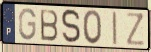B: (39, 8, 59, 43)
G: (18, 7, 37, 41)
I: (111, 11, 118, 47)
O: (82, 8, 103, 46)
S: (60, 8, 82, 45)
Z: (126, 11, 146, 47)
